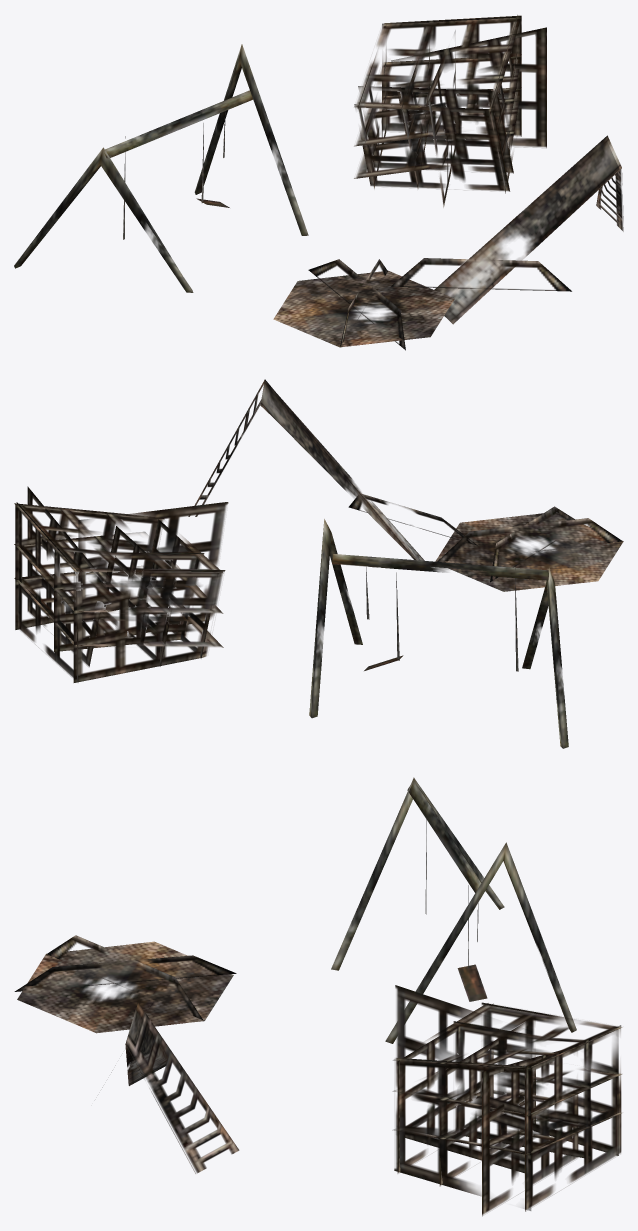
File: Environment - Prop - Playground Set - Damaged - PMPlygdSt_d.glb
3 views of the same model, one above another, from view 1: azimuth 30°, elevation 25°; view 2: azimuth 150°, elevation 25°; view 3: azimuth 270°, elevation 25° (orthographic). The views are drawn at different scales.
Visible parts, largest first — view 1: PMPLYGDST_D; view 2: PMPLYGDST_D; view 3: PMPLYGDST_D.
Boxes of the visible parts, x1=… form: PMPLYGDST_D: x1=14, y1=15, x2=623, y2=350; PMPLYGDST_D: x1=14, y1=379, x2=623, y2=748; PMPLYGDST_D: x1=14, y1=777, x2=622, y2=1216.
Size of the model in its own units: 45.58 by 14.78 by 38.33.
1 material, 1 textured.
